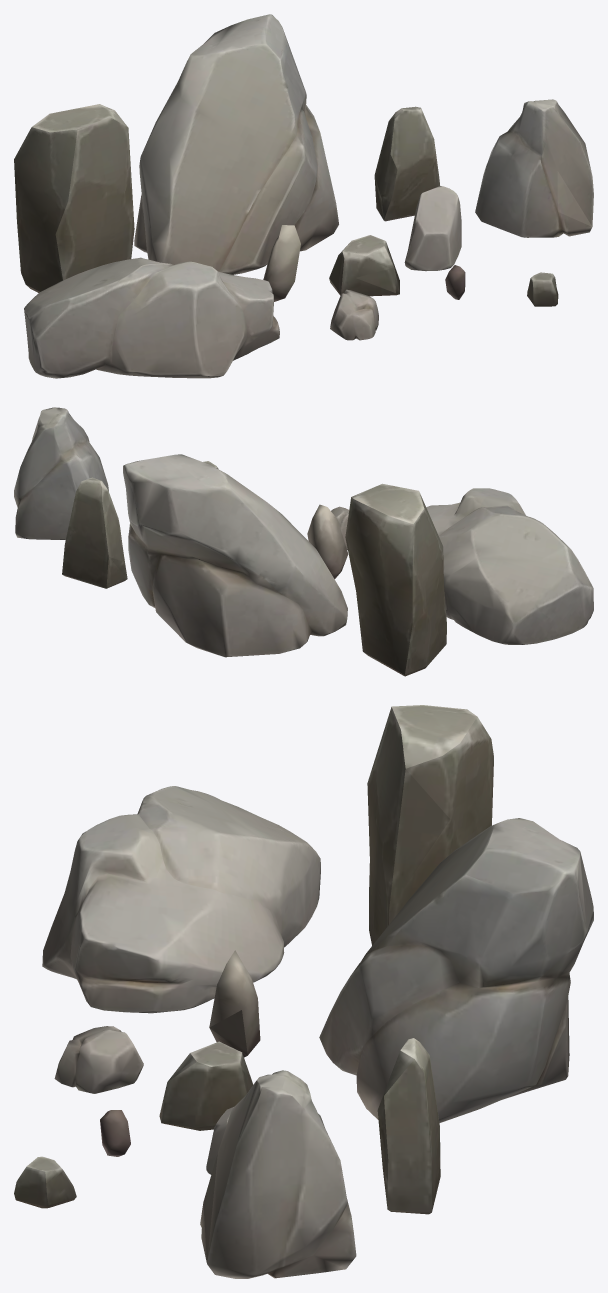
The model's file is NAT_RocksStylized.glb.
3 renders of one model, top to bottom at view 1: azimuth 30°, elevation 25°; view 2: azimuth 150°, elevation 25°; view 3: azimuth 270°, elevation 25°, orthographic. The views are drawn at different scales.
Visible parts, largest first — view 1: SM_Rocks_04, SM_Rocks_03, SM_Rocks_09, SM_Rocks_05, SM_Rocks_08, SM_Rocks_02, SM_Rocks_07, SM_Rocks_01, SM_Rocks_11, SM_Rocks_06, SM_Rocks_10; view 2: SM_Rocks_04, SM_Rocks_03, SM_Rocks_09, SM_Rocks_05, SM_Rocks_08, SM_Rocks_11; view 3: SM_Rocks_04, SM_Rocks_03, SM_Rocks_05, SM_Rocks_09, SM_Rocks_08, SM_Rocks_07, SM_Rocks_01, SM_Rocks_11, SM_Rocks_06, SM_Rocks_10.
Part boxes in pixels (<box>): SM_Rocks_04: <box>134,14,338,274</box>; SM_Rocks_03: <box>24,257,279,378</box>; SM_Rocks_09: <box>14,104,134,292</box>; SM_Rocks_05: <box>475,99,593,237</box>; SM_Rocks_08: <box>374,106,439,221</box>; SM_Rocks_02: <box>404,186,461,271</box>; SM_Rocks_07: <box>329,235,399,296</box>; SM_Rocks_01: <box>330,289,378,340</box>; SM_Rocks_11: <box>263,225,300,301</box>; SM_Rocks_06: <box>527,272,558,306</box>; SM_Rocks_10: <box>445,265,465,299</box>; SM_Rocks_04: <box>123,454,347,657</box>; SM_Rocks_03: <box>426,488,593,644</box>; SM_Rocks_09: <box>345,483,446,676</box>; SM_Rocks_05: <box>14,407,108,539</box>; SM_Rocks_08: <box>62,477,127,588</box>; SM_Rocks_11: <box>307,504,348,578</box>; SM_Rocks_04: <box>319,818,593,1122</box>; SM_Rocks_03: <box>42,786,320,1013</box>; SM_Rocks_05: <box>200,1070,356,1278</box>; SM_Rocks_09: <box>367,705,493,945</box>; SM_Rocks_08: <box>377,1038,440,1214</box>; SM_Rocks_07: <box>159,1041,253,1130</box>; SM_Rocks_01: <box>54,1026,143,1093</box>; SM_Rocks_11: <box>209,950,260,1057</box>; SM_Rocks_06: <box>14,1156,76,1208</box>; SM_Rocks_10: <box>100,1110,130,1156</box>.
Size of the model in its own units: 5.59 by 1.7 by 3.35.
Materials: 1 (1 with a texture image).
